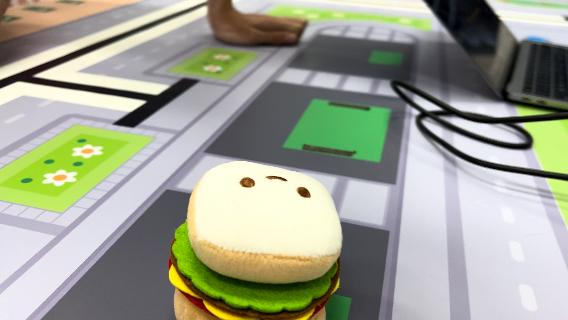sandwich: (166, 158, 346, 318)
